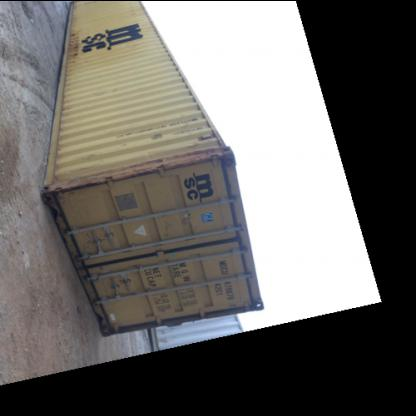Damage: (50, 143, 226, 199), (84, 226, 119, 252), (68, 24, 92, 60), (128, 0, 146, 22), (152, 126, 174, 139)
